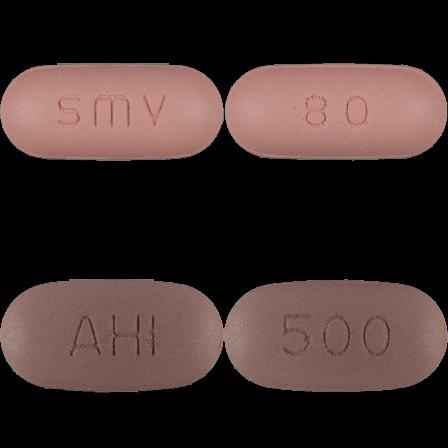16729-007: (0, 0, 224, 224)
